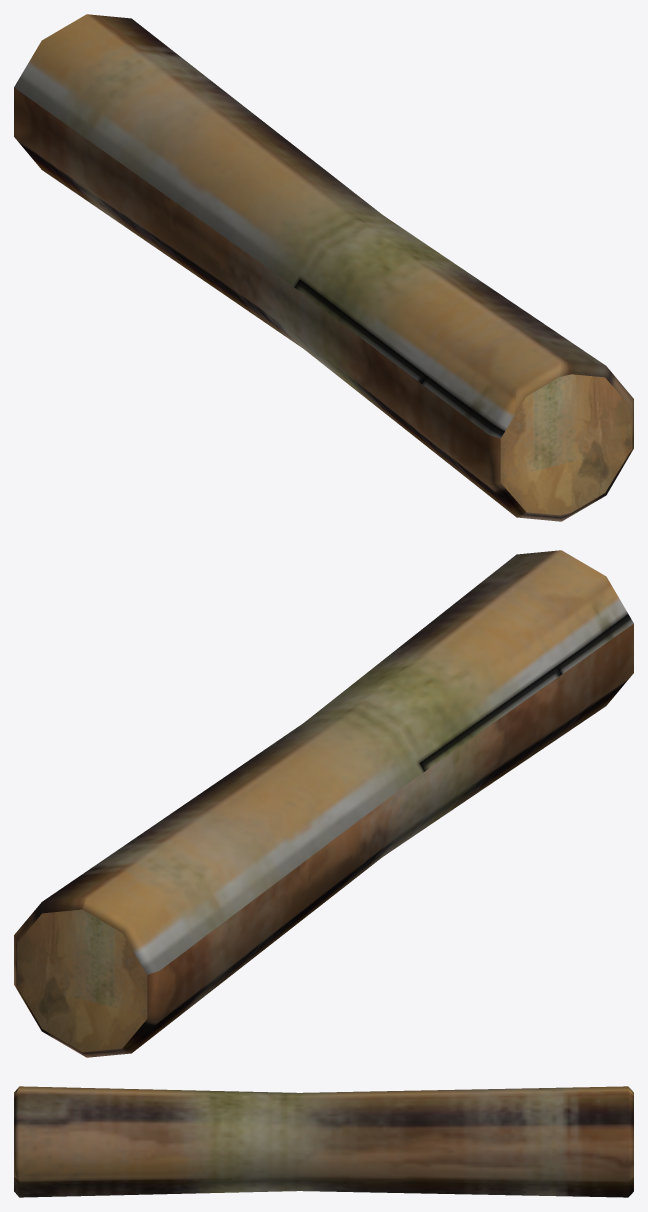
Rendered from Tronk.fbx.
3 renders of one model, top to bottom at view 1: azimuth 30°, elevation 25°; view 2: azimuth 150°, elevation 25°; view 3: azimuth 270°, elevation 25°, orthographic. The views are drawn at different scales.
Visible parts, largest first — view 1: Tronk; view 2: Tronk; view 3: Tronk.
Boxes of the visible parts, left/top/right/bottom form: Tronk: left=14, top=14, right=633, bottom=521; Tronk: left=14, top=550, right=633, bottom=1057; Tronk: left=14, top=1086, right=633, bottom=1197.
Size of the model in its own units: 16.48 by 17.32 by 94.8.
